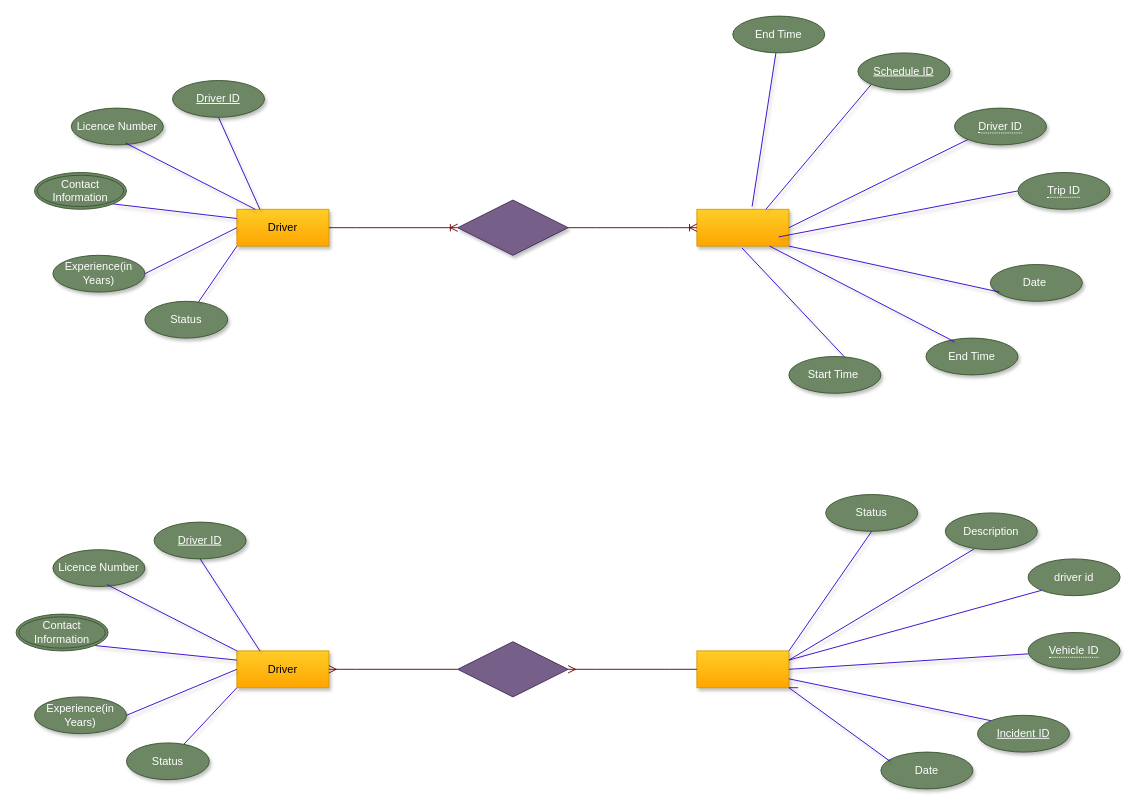
This 1142x811 diagram has some shape labels left out. The centre of each missing label's shape, as x and y in pixels:
"Incidents" goes at point (743, 670).
"involved" goes at point (512, 669).
"is assigned to" goes at point (513, 229).
"Schedule" goes at point (743, 229).
